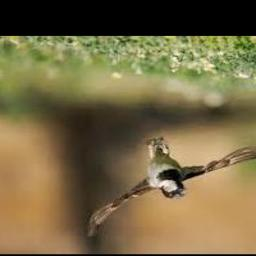Sparrow: (87, 137, 256, 236)
